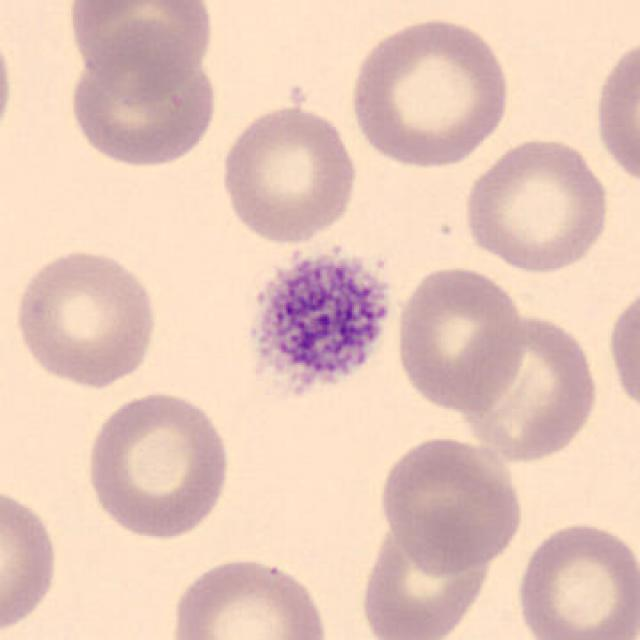Platelets: (240, 240, 402, 412)
RBC: (346, 12, 514, 171), (82, 388, 235, 543), (455, 308, 603, 466), (9, 243, 162, 390), (459, 132, 613, 275), (375, 432, 526, 575), (217, 100, 363, 247), (391, 261, 528, 414), (64, 49, 222, 171), (356, 518, 502, 640), (512, 518, 638, 640), (65, 0, 218, 100), (164, 552, 332, 640), (0, 480, 64, 638), (590, 32, 638, 195), (604, 278, 640, 419), (0, 18, 16, 155)
